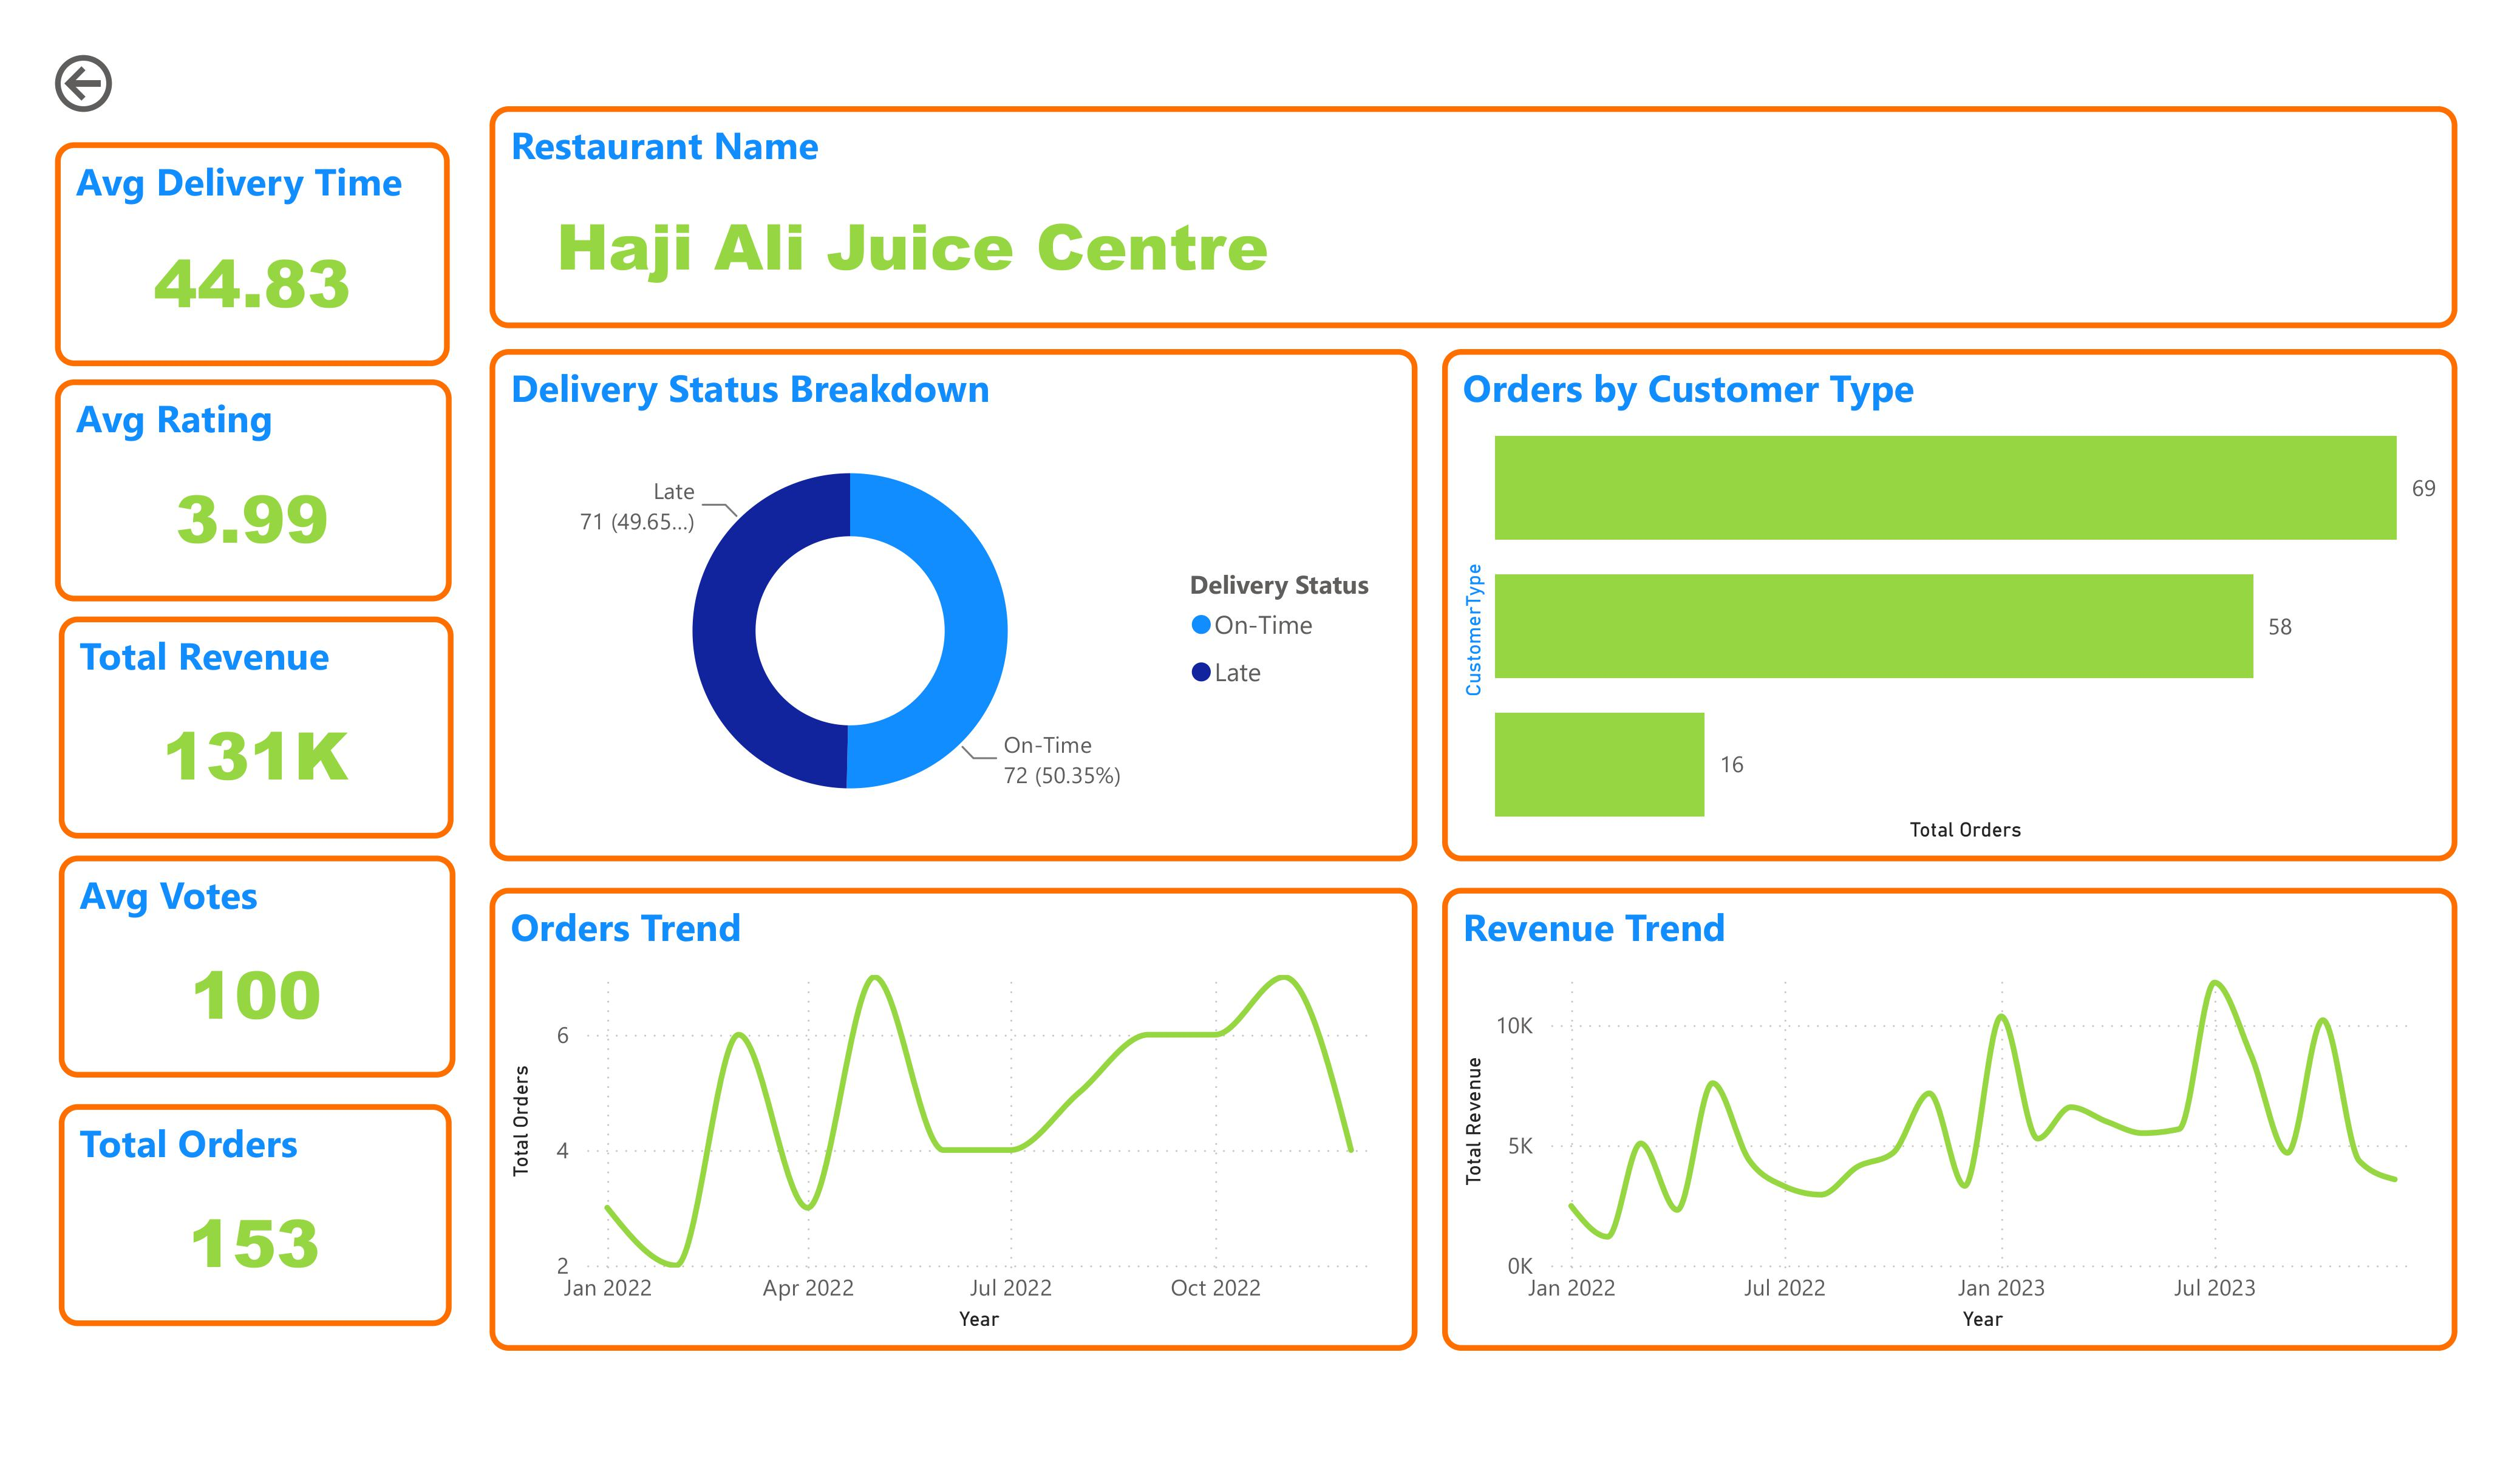

Layout of this report page (visuals, bound fields, positions):
{"tool":"powerbi","page":{"name":"Restaurant Details","canvas":[1280,720],"ordinal":5},"visuals":[{"type":"cardVisual","title":"Avg Delivery Time","fields":{"Data":["Orders.Avg Delivery Time"]},"box":[4.9,51.5,208.6,117.1],"z":0},{"type":"cardVisual","title":"Total Revenue","fields":{"Data":["Orders.Total Revenue"]},"box":[7.4,301.3,207.8,116.7],"z":1000},{"type":"cardVisual","title":"Avg Votes","fields":{"Data":["Orders.Average Vote"]},"box":[7.4,426.9,208.9,116.7],"z":2000},{"type":"cardVisual","title":"Avg Rating","fields":{"Data":["Orders.Avg Rating"]},"box":[5.1,175.9,208.9,116.7],"z":3000},{"type":"cardVisual","title":"Total Orders","fields":{"Data":["Orders.Total Orders"]},"box":[7.4,558.1,206.7,116.7],"z":4000},{"type":"cardVisual","title":"Restaurant Name","fields":{"Data":["Min(Restaurants.name)"]},"box":[234,32.5,1036.7,116.7],"z":5000},{"type":"lineChart","title":"Revenue Trend","fields":{"Y":["Orders.Total Revenue"],"Category":["Customers.SignupDate.Variation.Date Hierarchy.Year","Customers.SignupDate.Variation.Date Hierarchy.Month"]},"box":[736.2,443.8,535,243.8],"z":6000},{"type":"lineChart","title":"Orders Trend","fields":{"Category":["Customers.SignupDate.Variation.Date Hierarchy.Year","Customers.SignupDate.Variation.Date Hierarchy.Month"],"Y":["Orders.Total Orders"]},"box":[234,443.6,488.9,244.4],"z":7000},{"type":"barChart","title":"Orders by Customer Type","fields":{"Y":["Orders.Total Orders"],"Category":["Customers.CustomerType"]},"box":[736.2,160.2,534.4,270],"z":8000},{"type":"actionButton","box":[0,0,100,40],"z":9000},{"type":"donutChart","title":"Delivery Status Breakdown","fields":{"Category":["Orders.Delivery Status"],"Y":["Orders.Total Orders"]},"box":[234,160.2,488.9,270],"z":10000}]}

Visuals, with their boxes in screenshot pixels (x1, y1, x2, y2):
"Avg Delivery Time" cardVisual: select_region(62, 142, 452, 362)
"Total Revenue" cardVisual: select_region(66, 610, 455, 829)
"Avg Votes" cardVisual: select_region(66, 845, 458, 1064)
"Avg Rating" cardVisual: select_region(62, 375, 453, 594)
"Total Orders" cardVisual: select_region(66, 1091, 454, 1309)
"Restaurant Name" cardVisual: select_region(491, 107, 2432, 325)
"Revenue Trend" lineChart: select_region(1431, 877, 2433, 1333)
"Orders Trend" lineChart: select_region(491, 877, 1406, 1334)
"Orders by Customer Type" barChart: select_region(1431, 346, 2432, 851)
actionButton: select_region(52, 46, 240, 121)
"Delivery Status Breakdown" donutChart: select_region(491, 346, 1406, 851)
